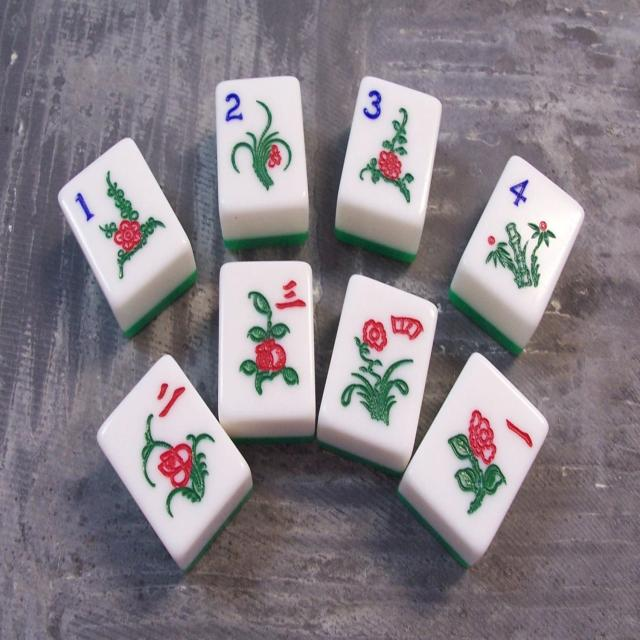f1: (59, 132, 197, 307)
f2: (218, 75, 310, 212)
f3: (336, 76, 439, 224)
f4: (462, 156, 588, 328)
ff1: (401, 353, 551, 560)
ff2: (93, 349, 251, 562)
ff3: (220, 264, 315, 425)
ff4: (318, 274, 437, 458)
